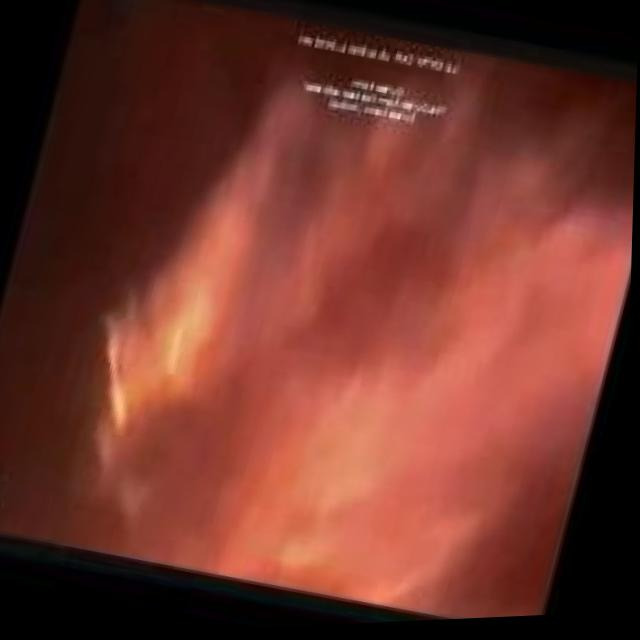fire: (78, 273, 218, 454)
